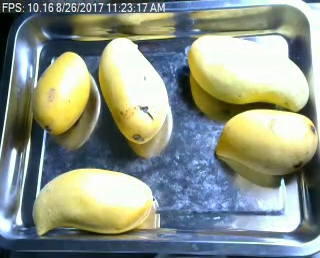Mango: (186, 31, 309, 110), (32, 168, 153, 238), (98, 36, 170, 145), (218, 109, 317, 174), (30, 50, 90, 136)
